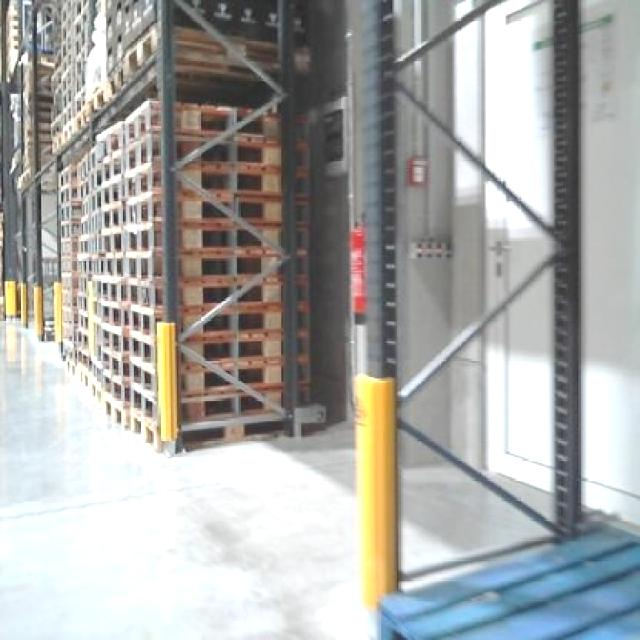pallets: (51, 0, 323, 448), (58, 98, 160, 438), (175, 108, 278, 431), (378, 525, 637, 637), (174, 102, 248, 154)
